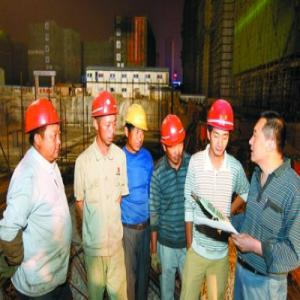none: (249, 108, 289, 170)
red: (26, 98, 62, 162), (208, 100, 236, 158), (92, 91, 118, 147), (161, 114, 186, 163)
yellow: (124, 105, 148, 152)
